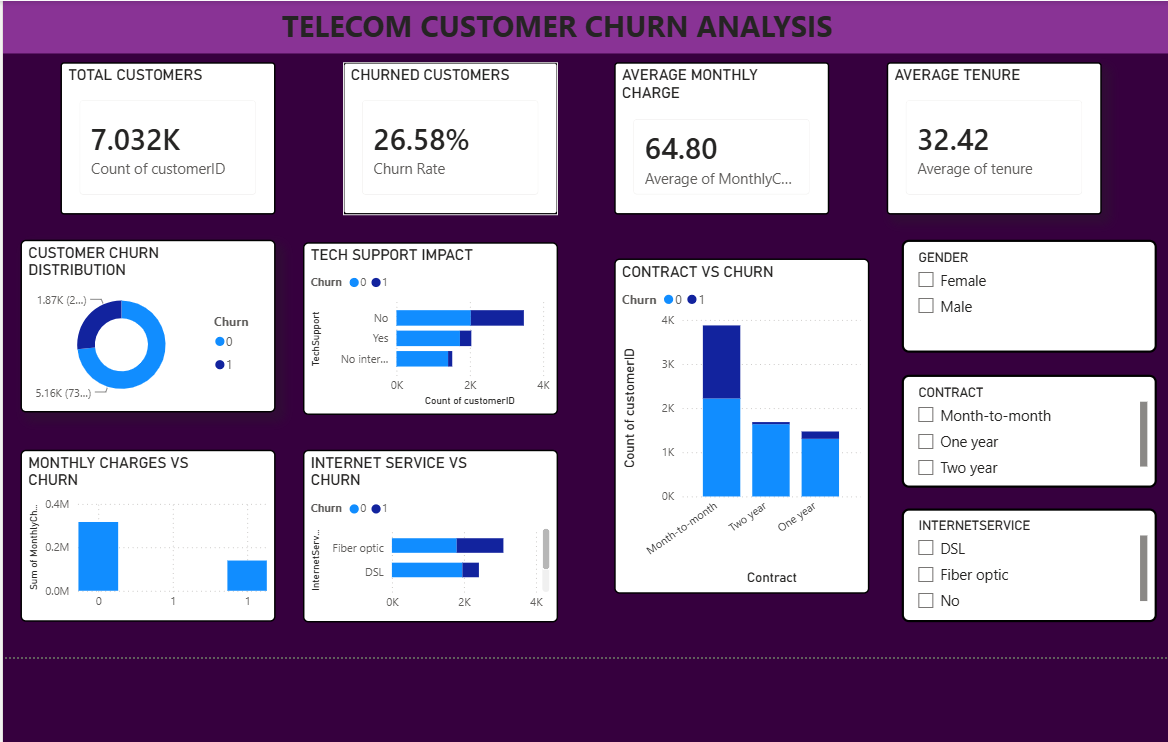

The dashboard page shown, as its layout file describes it:
{"tool":"powerbi","page":{"name":"Churn analysis","canvas":[1280,720],"ordinal":0},"visuals":[{"type":"cardVisual","title":"TOTAL CUSTOMERS","fields":{"Data":["CountNonNull(clean_telco.customerID)"]},"box":[63.1,67.2,236,167.4],"z":0},{"type":"cardVisual","title":"CHURNED CUSTOMERS","fields":{"Data":["clean_telco.Churn Rate"]},"box":[373.2,67.2,236,167.4],"z":1000},{"type":"cardVisual","title":"AVERAGE MONTHLY CHARGE","fields":{"Data":["Avg(clean_telco.MonthlyCharges)"]},"box":[671,67.2,236,167.4],"z":2000},{"type":"cardVisual","title":"AVERAGE TENURE","fields":{"Data":["Avg(clean_telco.tenure)"]},"box":[970.2,67.2,236,167.4],"z":3000},{"type":"donutChart","title":"CUSTOMER CHURN DISTRIBUTION ","fields":{"Category":["clean_telco.Churn"],"Y":["CountNonNull(clean_telco.customerID)"]},"box":[19.2,262.1,279.9,189.4],"z":4000},{"type":"columnChart","title":"CONTRACT VS CHURN","fields":{"Category":["clean_telco.Contract"],"Series":["clean_telco.Churn"],"Y":["CountNonNull(clean_telco.customerID)"]},"box":[671,282.7,279.9,367.8],"z":5000},{"type":"clusteredColumnChart","title":"MONTHLY CHARGES VS CHURN","fields":{"Category":["clean_telco.Churn"],"Y":["Sum(clean_telco.MonthlyCharges)"]},"box":[19.2,492.6,279.9,189],"z":6000},{"type":"barChart","title":"INTERNET SERVICE VS CHURN","fields":{"Category":["clean_telco.InternetService"],"Series":["clean_telco.Churn"],"Y":["CountNonNull(clean_telco.customerID)"]},"box":[329.3,492.6,279.9,189.4],"z":7000},{"type":"barChart","title":"TECH SUPPORT IMPACT","fields":{"Category":["clean_telco.TechSupport"],"Series":["clean_telco.Churn"],"Y":["CountNonNull(clean_telco.customerID)"]},"box":[329.3,264.8,279.9,189.4],"z":8000},{"type":"slicer","fields":{"Values":["clean_telco.gender"]},"box":[986.6,262.1,279.9,124],"z":9000},{"type":"slicer","fields":{"Values":["clean_telco.Contract"]},"box":[986.6,410.3,279.9,124],"z":10000},{"type":"slicer","fields":{"Values":["clean_telco.InternetService"]},"box":[986.6,557.1,279.9,124.9],"z":11000},{"type":"textbox","box":[0,0,1280.3,57.6],"z":12000}]}

Visuals, with their boxes in screenshot pixels (x1, y1, x2, y2):
"TOTAL CUSTOMERS" cardVisual: 63,64,275,214
"CHURNED CUSTOMERS" cardVisual: 342,64,554,214
"AVERAGE MONTHLY CHARGE" cardVisual: 610,64,822,214
"AVERAGE TENURE" cardVisual: 879,64,1092,214
"CUSTOMER CHURN DISTRIBUTION " donutChart: 23,239,275,409
"CONTRACT VS CHURN" columnChart: 610,257,862,588
"MONTHLY CHARGES VS CHURN" clusteredColumnChart: 23,446,275,616
"INTERNET SERVICE VS CHURN" barChart: 302,446,554,617
"TECH SUPPORT IMPACT" barChart: 302,241,554,412
slicer - clean_telco.gender: 894,239,1146,350
slicer - clean_telco.Contract: 894,372,1146,484
slicer - clean_telco.InternetService: 894,504,1146,617
textbox: 6,3,1158,55
